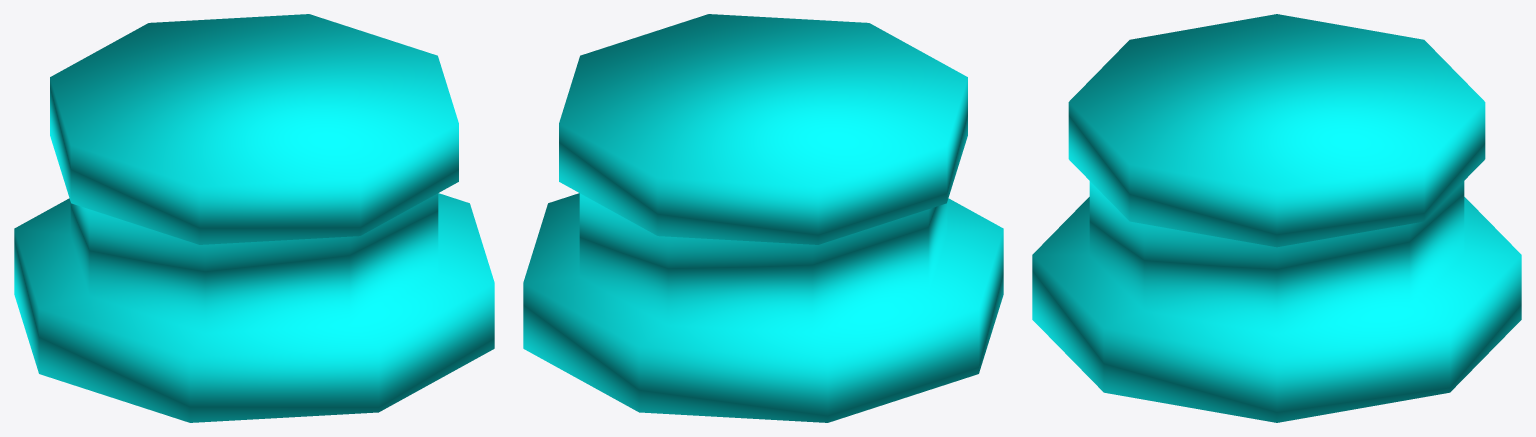
File: PeiceTest.gltf
The picture shows the model from 3 angles, left to right: view 1: azimuth 30°, elevation 25°; view 2: azimuth 150°, elevation 25°; view 3: azimuth 270°, elevation 25°; orthographic projection.
Visible parts, largest first — view 1: 台座; view 2: 台座; view 3: 台座.
Part boxes in pixels (x1,y1,x2,y2): 台座: (14,14,494,422); 台座: (523,14,1003,422); 台座: (1032,14,1521,422).
Size of the model in its own units: 0.8698 by 0.4264 by 0.8698.
